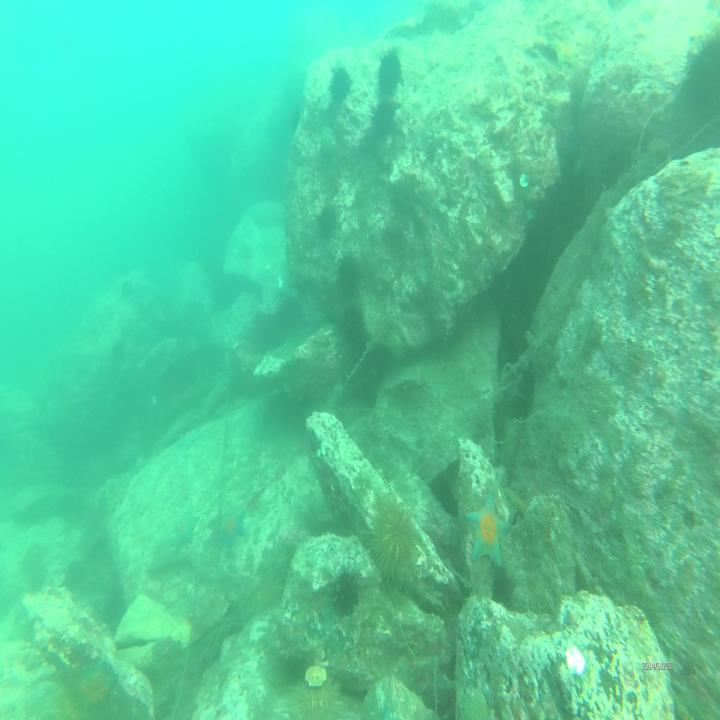echinus: (374, 496, 418, 584), (294, 674, 340, 720), (329, 562, 357, 618), (337, 249, 363, 289), (374, 94, 397, 138), (378, 53, 401, 96), (344, 302, 365, 344), (386, 326, 406, 364), (331, 64, 351, 101), (318, 202, 338, 238)
starfish: (464, 495, 510, 575), (218, 510, 246, 548), (174, 510, 199, 549)
